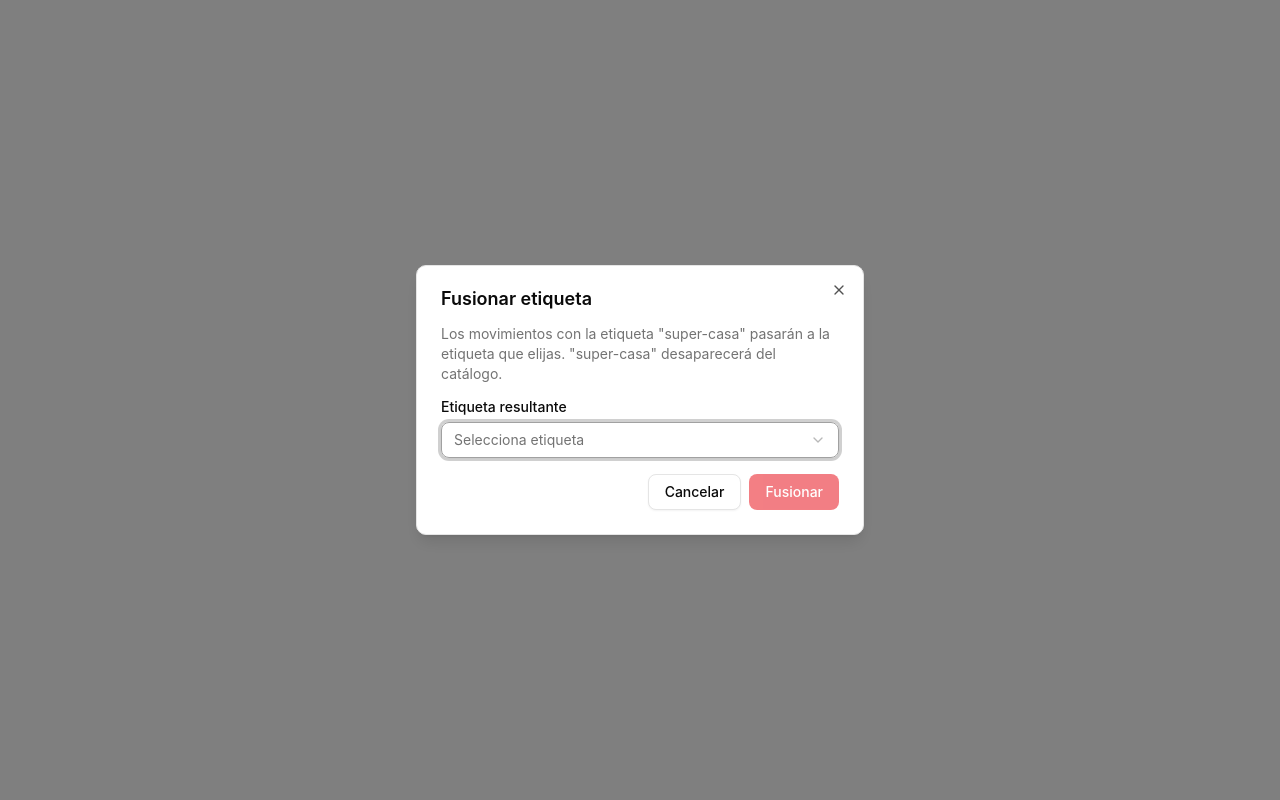
Test: MergeTagsDialog › el error de dominio es visible con role=alert y el diálogo permanece abierto
Click the dropdown named "Etiqueta resultante" at (519, 440), box 441,422 -> 839,458
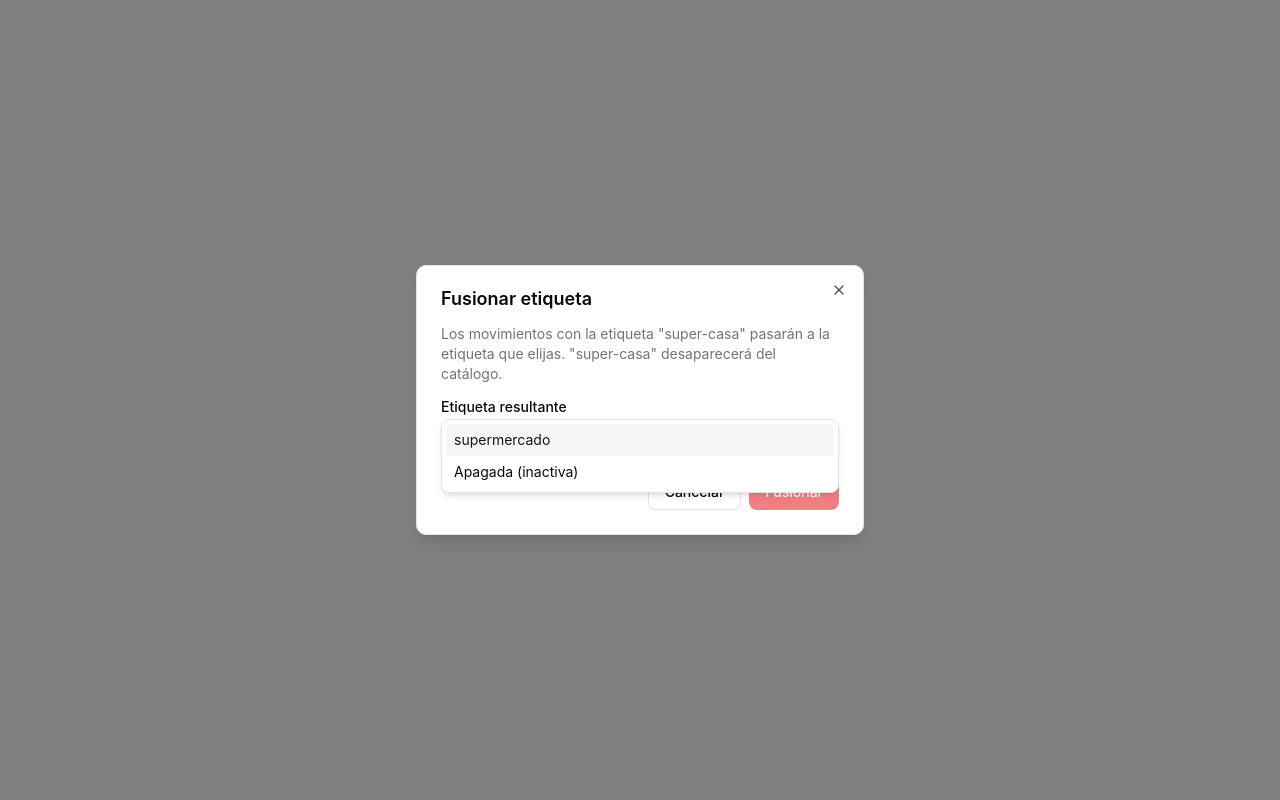
Click the option "supermercado" at (502, 440), box 446,424 -> 834,456
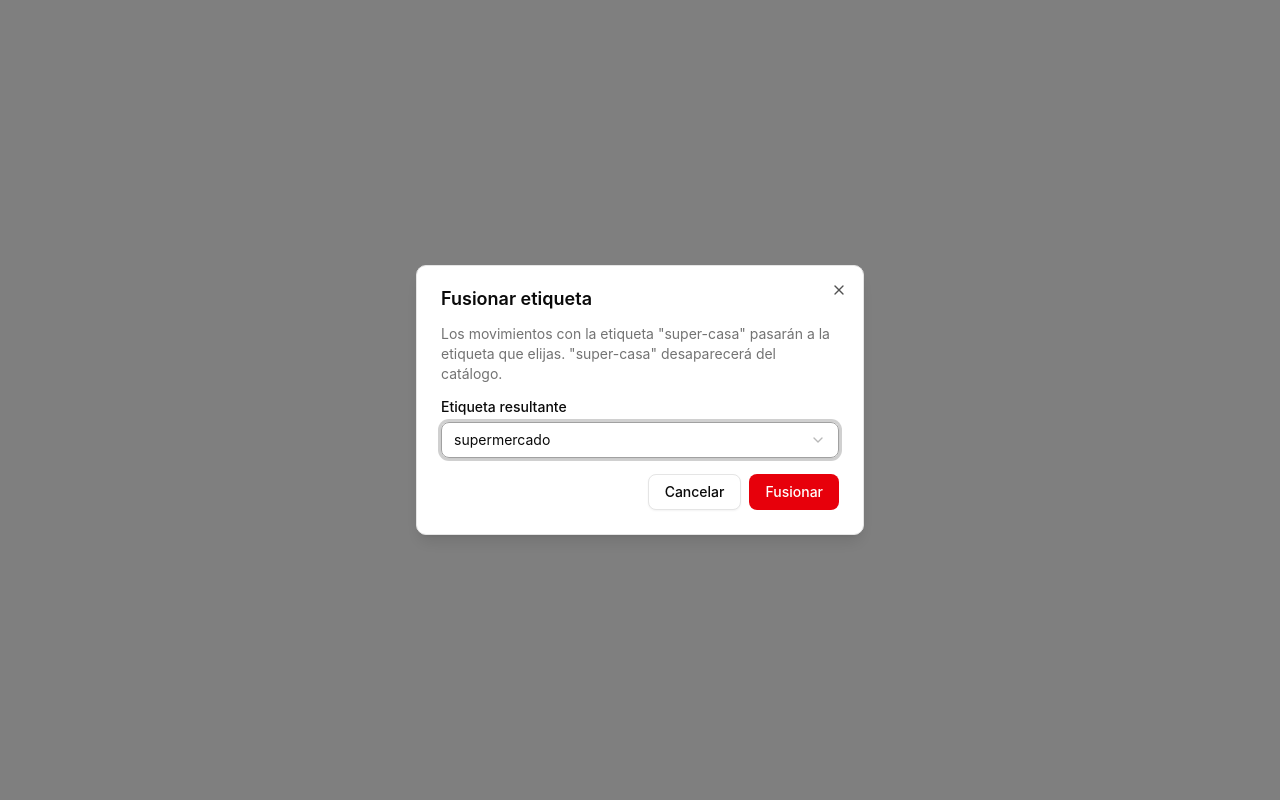
Click the button "Fusionar" at (794, 492), box 750,474 -> 839,510
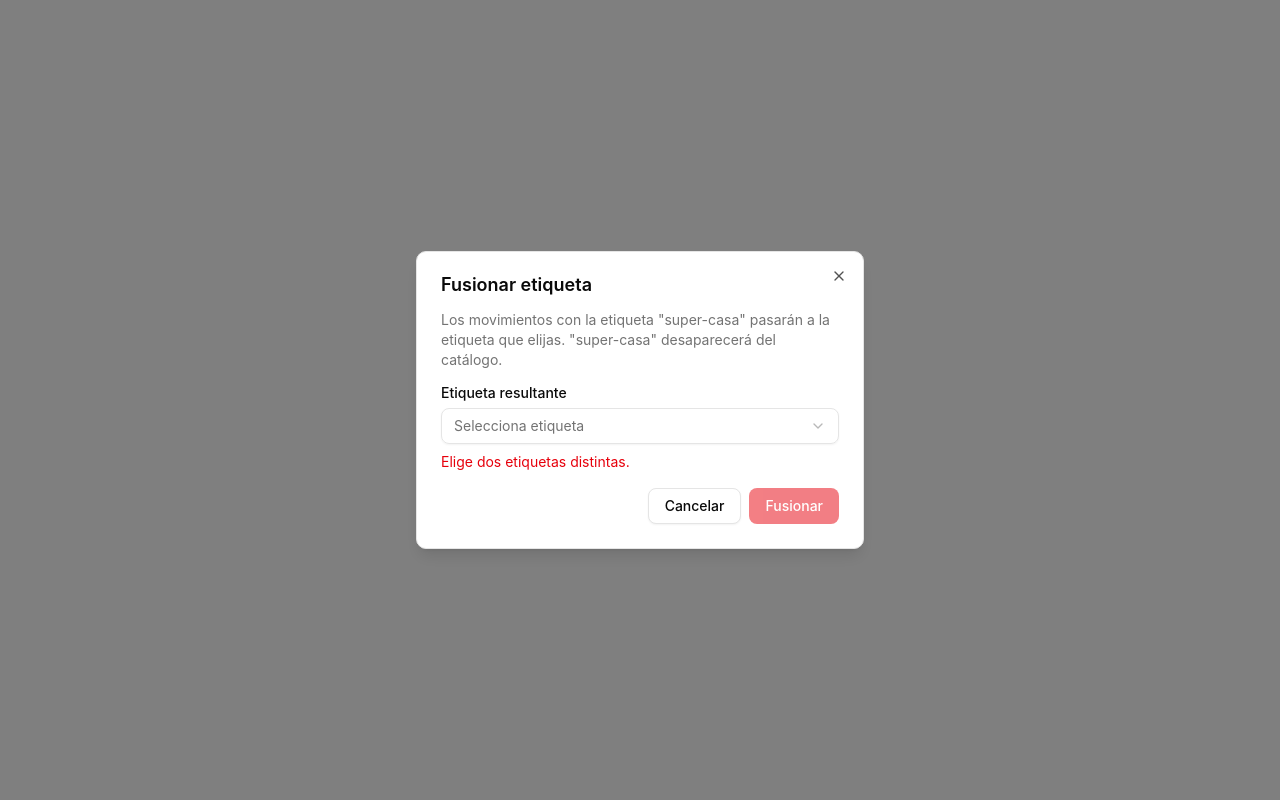
Expected: the dialog "Fusionar etiqueta" is shown, 416,251 -> 864,549
Result: the message reads "Elige dos etiquetas distintas." at 441,453 -> 630,470
